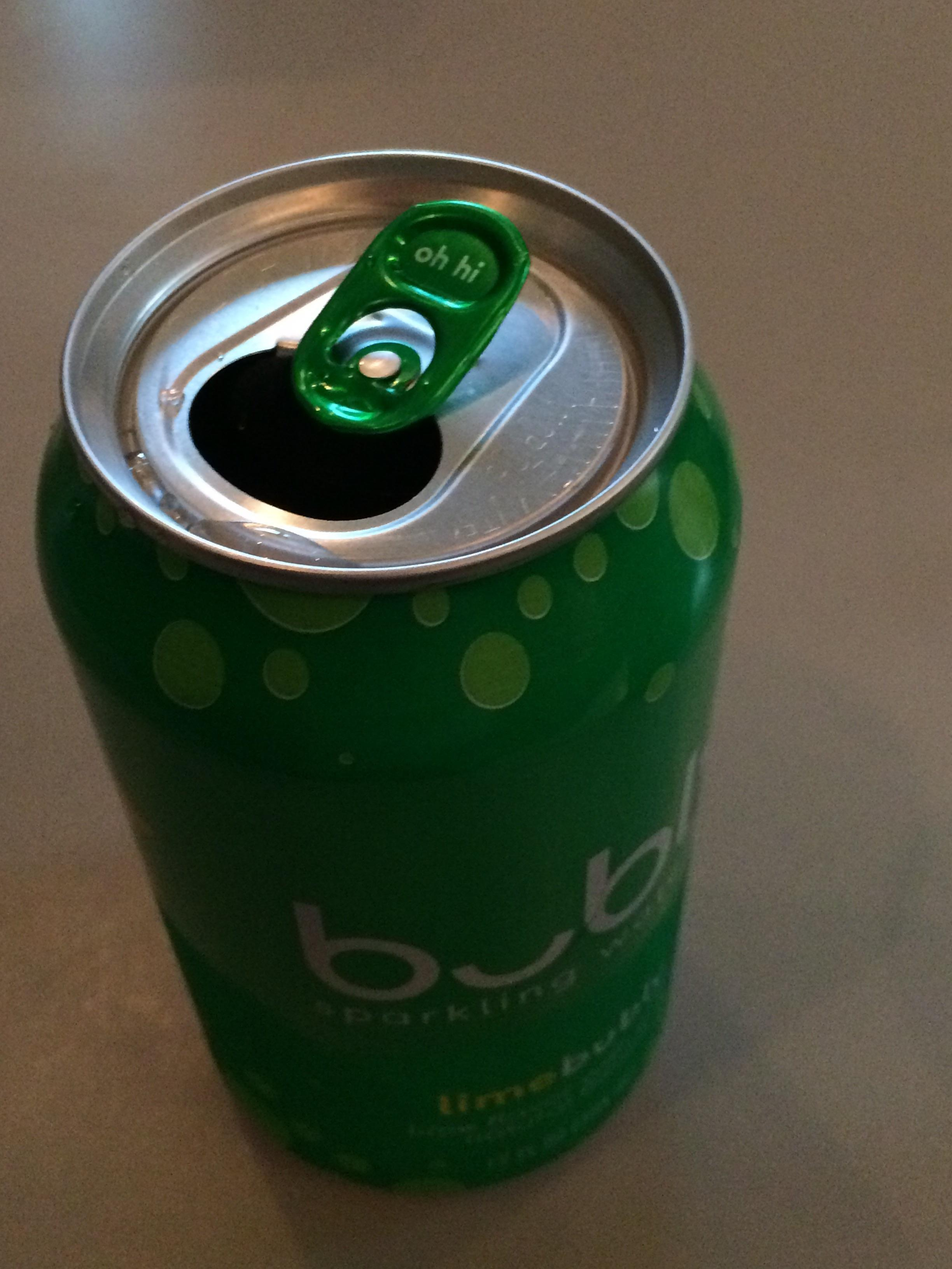metal: (35, 150, 741, 1189)
